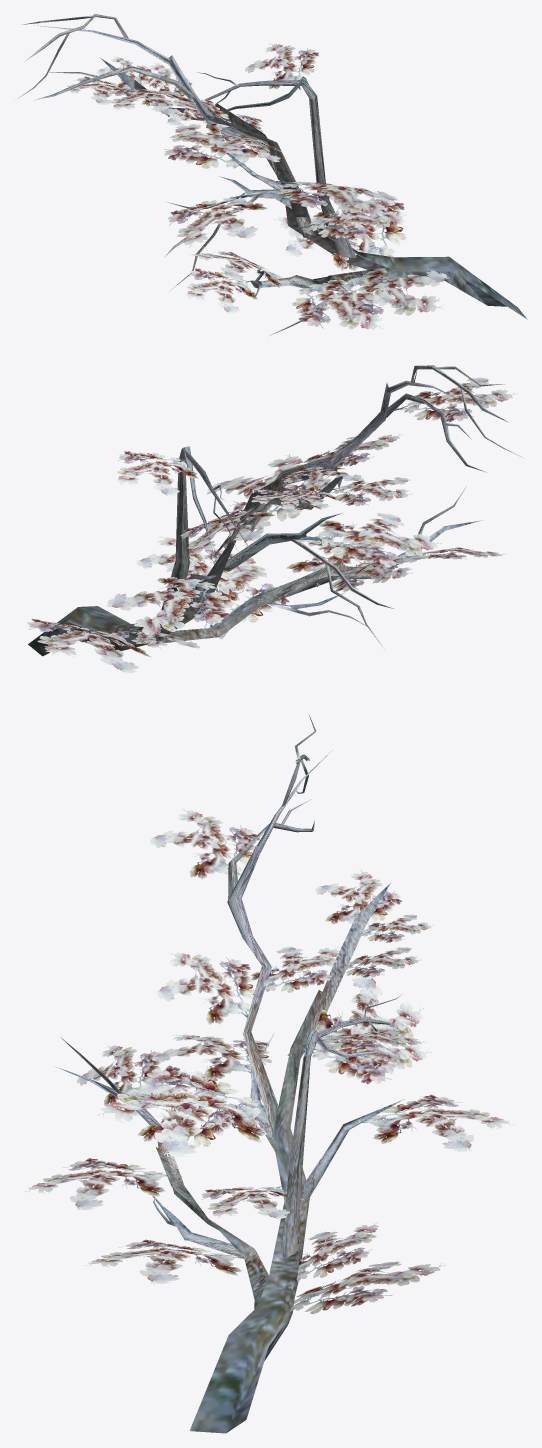
File: S_Tree_White002_1.FBX
3 renders of one model, top to bottom at view 1: azimuth 30°, elevation 25°; view 2: azimuth 150°, elevation 25°; view 3: azimuth 270°, elevation 25°, orthographic. The views are drawn at different scales.
Visible parts, largest first — view 1: S_Tree_White002_1; view 2: S_Tree_White002_1; view 3: S_Tree_White002_1.
Part boxes in pixels (x1,y1,x2,y2): S_Tree_White002_1: (18,14,527,335); S_Tree_White002_1: (27,365,522,673); S_Tree_White002_1: (25,715,514,1433).
Bounding box in the file's own units: 482 × 374 × 360.
